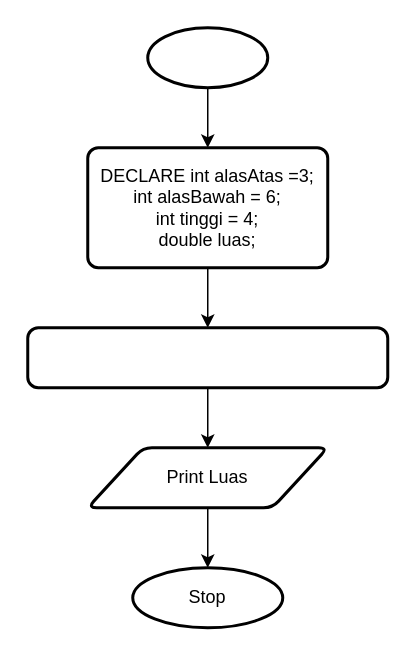
The diagram is 414 pixels wide and 654 high, and some of its shapes have lost their labels. Each missing label, with the centre of its shape:
Luas = 0.5 * (alasAtas + alasBawah) * tinggi: the point at 207,357
STAR: the point at 207,57
